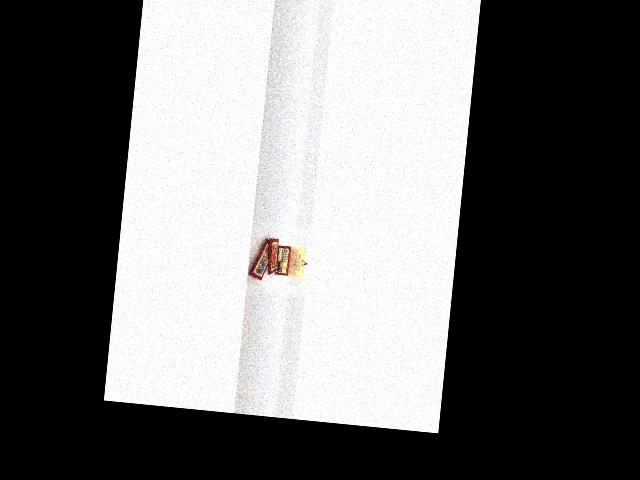chocolate: (244, 234, 273, 289)
